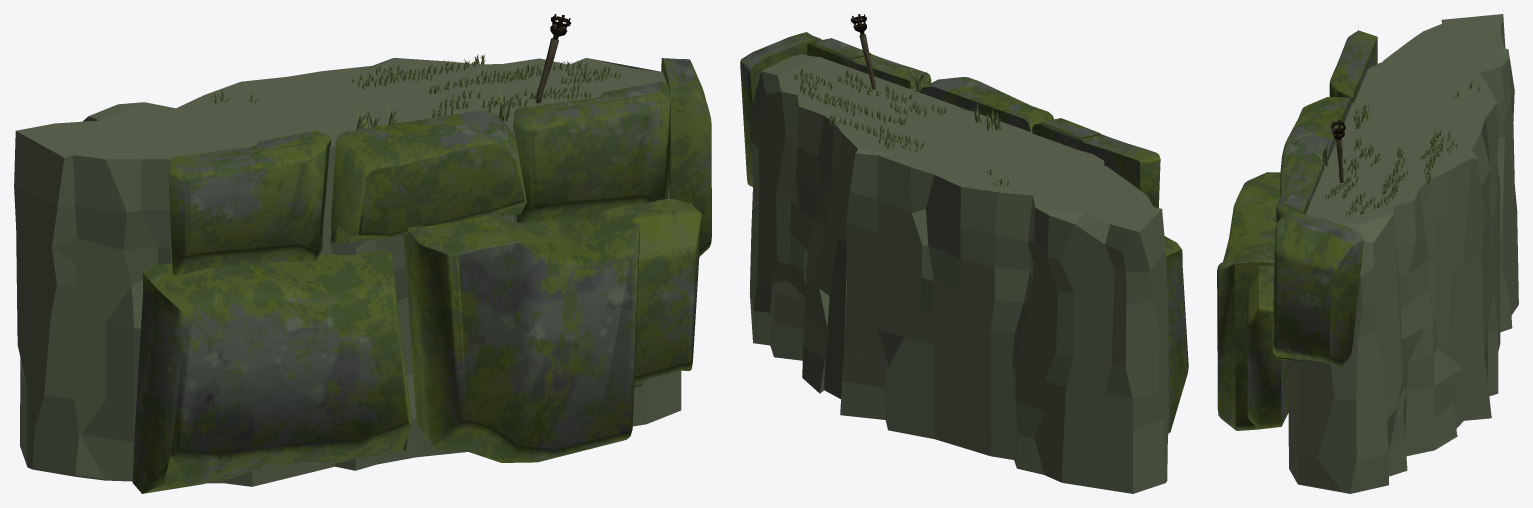
The model's file is banners_place.glb.
3 views of the same model, side by side, from view 1: azimuth 30°, elevation 25°; view 2: azimuth 150°, elevation 25°; view 3: azimuth 270°, elevation 25° (orthographic). The views are drawn at different scales.
Parts seen in each view (by area): view 1: banners_place; view 2: banners_place; view 3: banners_place.
Boxes of the visible parts, x1,y1,x2,y2 form: banners_place: [14, 14, 711, 493]; banners_place: [740, 14, 1188, 493]; banners_place: [1217, 14, 1518, 493].
Bounding box in the file's own units: 2.17 × 1.39 × 1.17.
Materials: 4 (2 with a texture image).
